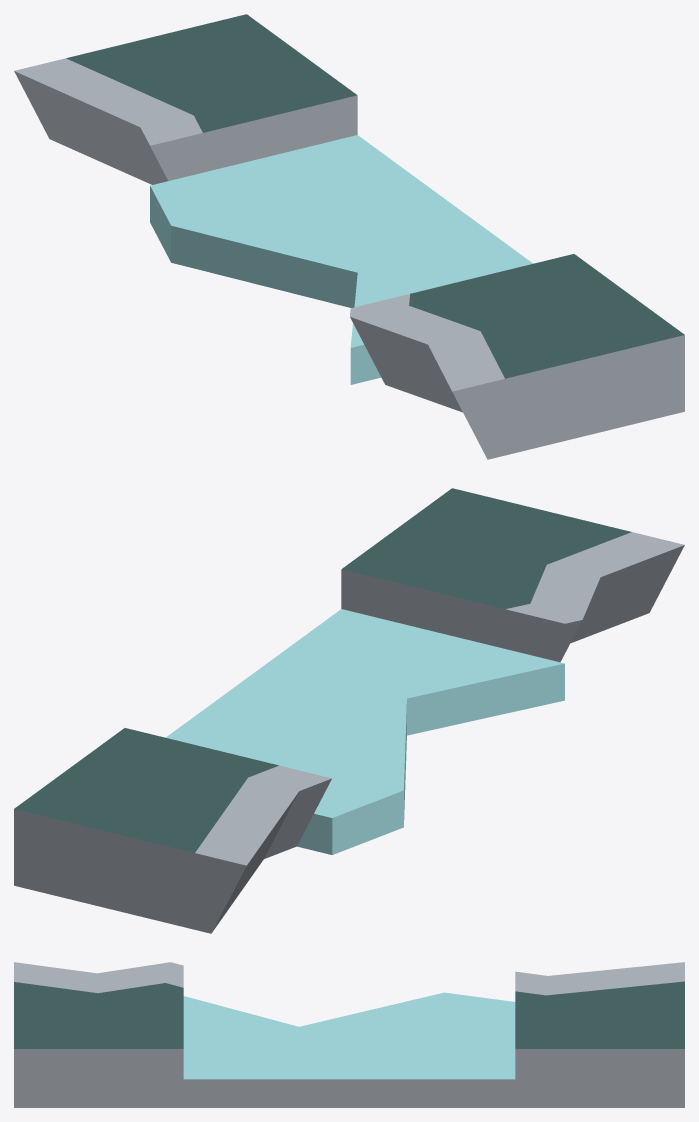
The model's file is naturePack_141.obj.
The picture shows the model from 3 angles, top to bottom: view 1: azimuth 30°, elevation 25°; view 2: azimuth 150°, elevation 25°; view 3: azimuth 270°, elevation 25°; orthographic projection. The views are drawn at different scales.
Parts seen in each view (by area): view 1: Water, Leafs, Mesh1 Grey_Waterfall_Top Model, Stone; view 2: Water, Leafs, Stone, Mesh1 Grey_Waterfall_Top Model; view 3: Stone, Water, Leafs, Mesh1 Grey_Waterfall_Top Model.
Boxes of the visible parts, x1,y1,x2,y2 form: Water: (150,135,532,384); Leafs: (66,14,684,378); Mesh1 Grey_Waterfall_Top Model: (14,58,684,459); Stone: (66,58,504,412); Water: (166,609,564,854); Leafs: (14,488,631,852); Stone: (195,532,684,858); Mesh1 Grey_Waterfall_Top Model: (14,791,298,933); Stone: (14,962,684,1107); Water: (183,992,515,1079); Leafs: (14,981,684,1048); Mesh1 Grey_Waterfall_Top Model: (549,962,684,981).
Bounding box in the file's own units: 0.92 × 0.29 × 3.
